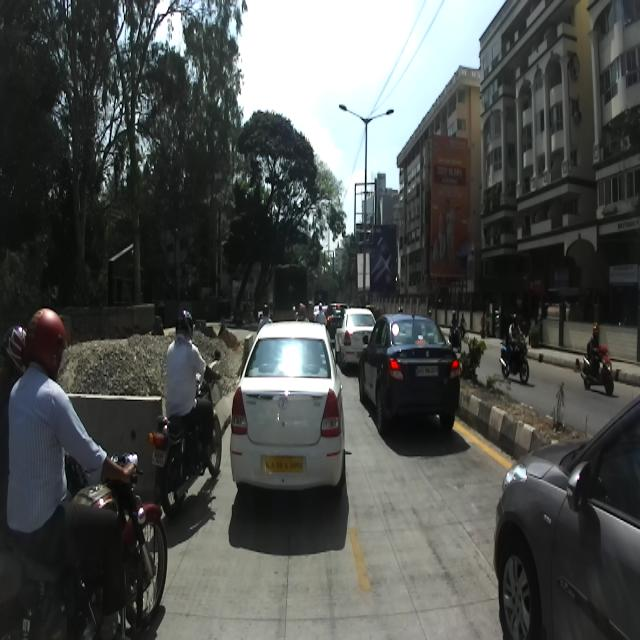car ahead at: (496, 399, 640, 640), (228, 314, 344, 494), (352, 310, 466, 437)
motorcycle ahead at: (152, 413, 199, 510)
